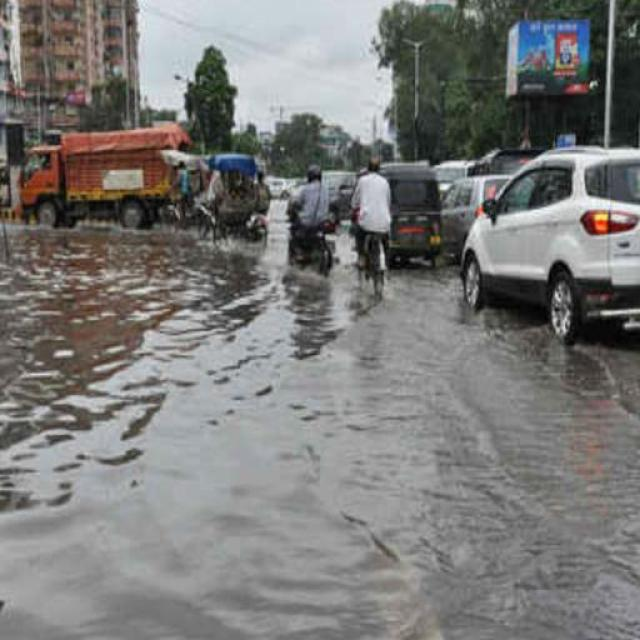puddle: (15, 290, 470, 640), (421, 347, 596, 628), (16, 248, 302, 319)
